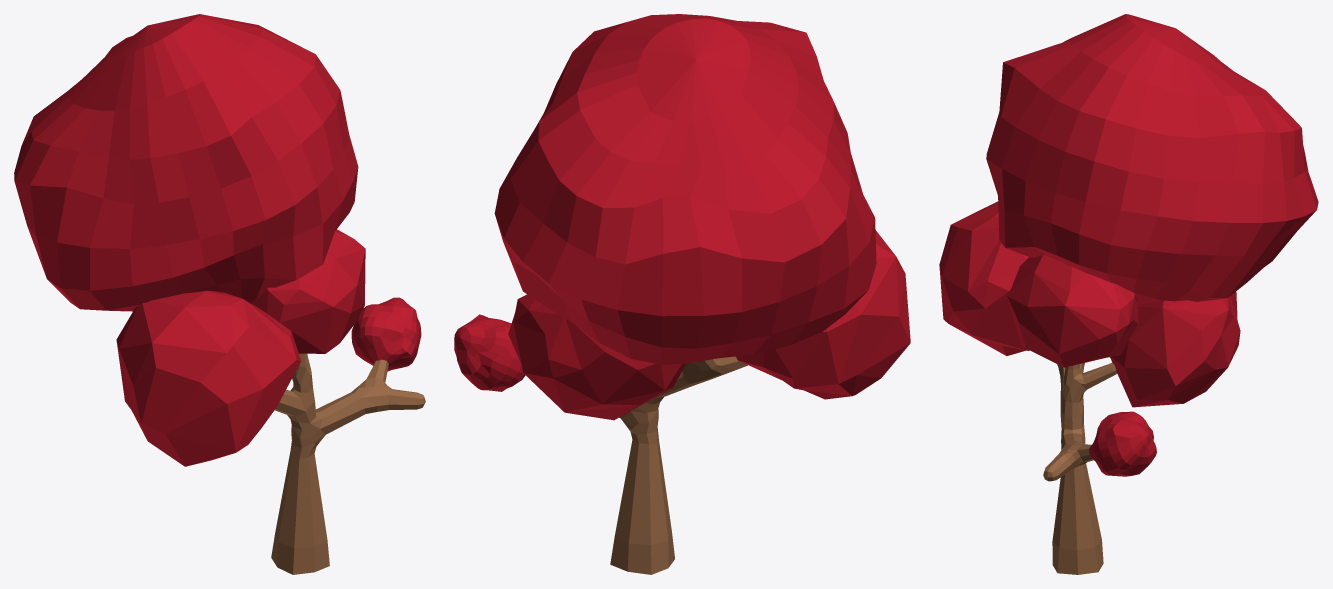
File: tree-dead-complete-9-012.glb
3 renders of one model, left to right at view 1: azimuth 30°, elevation 25°; view 2: azimuth 150°, elevation 25°; view 3: azimuth 270°, elevation 25°, orthographic. The views are drawn at different scales.
Parts seen in each view (by area): view 1: TREE 9.007_520, TREE 9.006_521; view 2: TREE 9.007_520, TREE 9.006_521; view 3: TREE 9.007_520, TREE 9.006_521.
Boxes of the visible parts, <box> form: TREE 9.007_520: <box>14,14,421,466</box>; TREE 9.006_521: <box>271,353,425,574</box>; TREE 9.007_520: <box>454,14,910,420</box>; TREE 9.006_521: <box>610,356,747,574</box>; TREE 9.007_520: <box>939,14,1318,476</box>; TREE 9.006_521: <box>1043,362,1116,574</box>.
Bounding box in the file's own units: 1.3 × 1.8 × 1.22.
